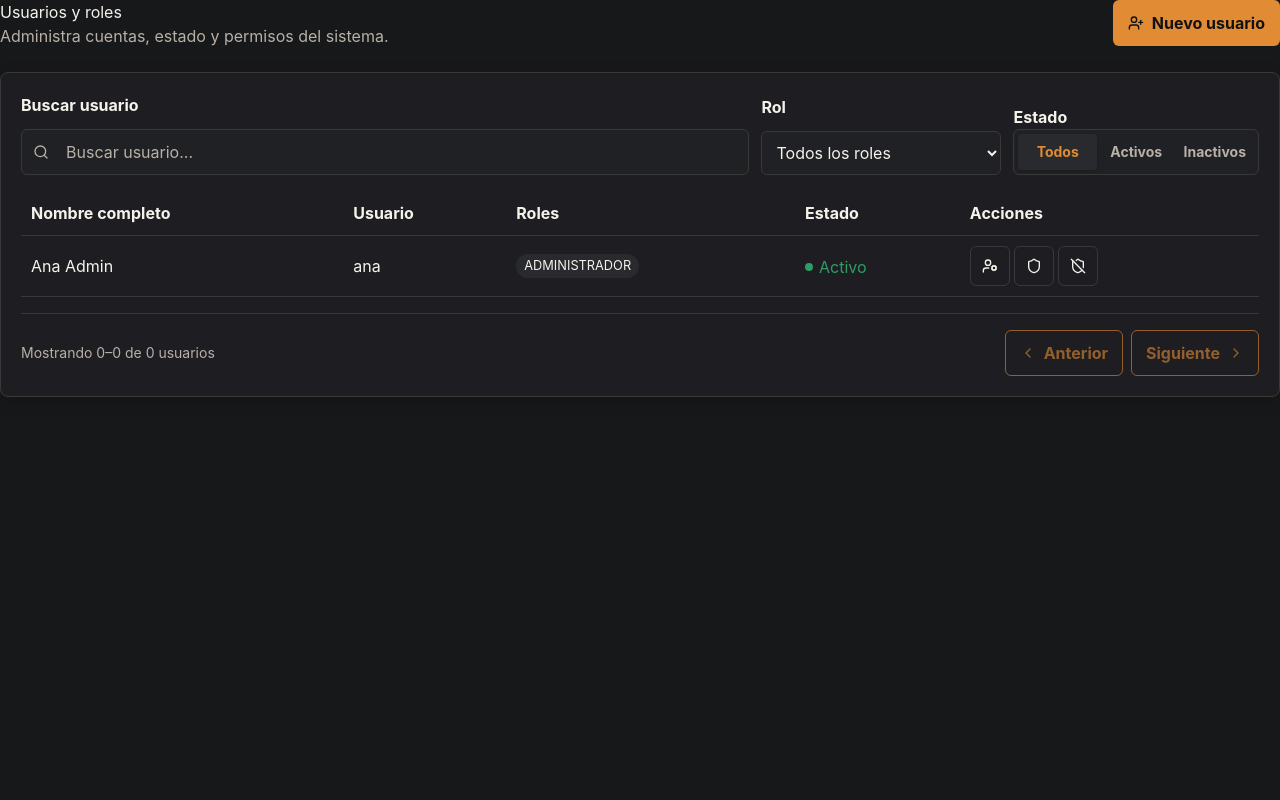
Test case: UsersPage › requires at least one role before creating a user
Click the button "Nuevo usuario" at (1196, 23), box x1=1113 y1=0 x2=1279 y2=46
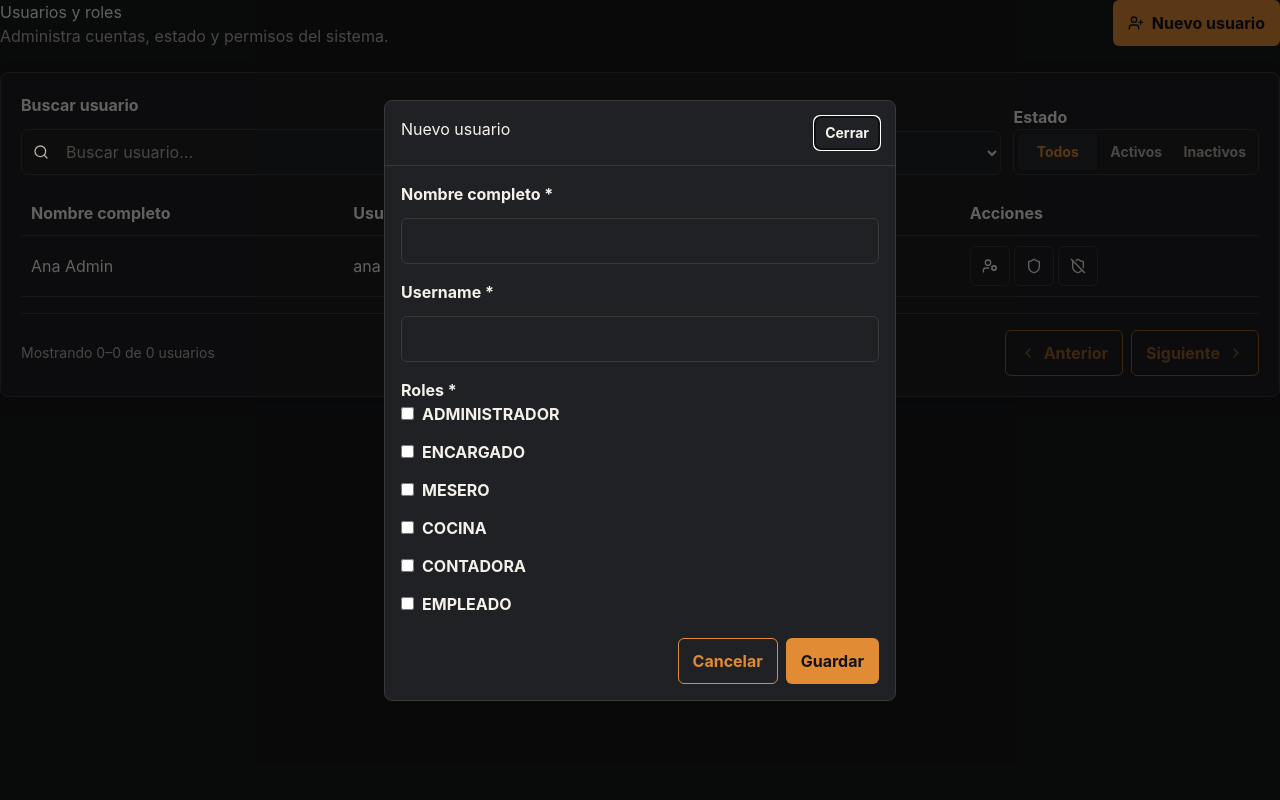
Click the button "Guardar" at (832, 660), box x1=786 y1=638 x2=879 y2=684
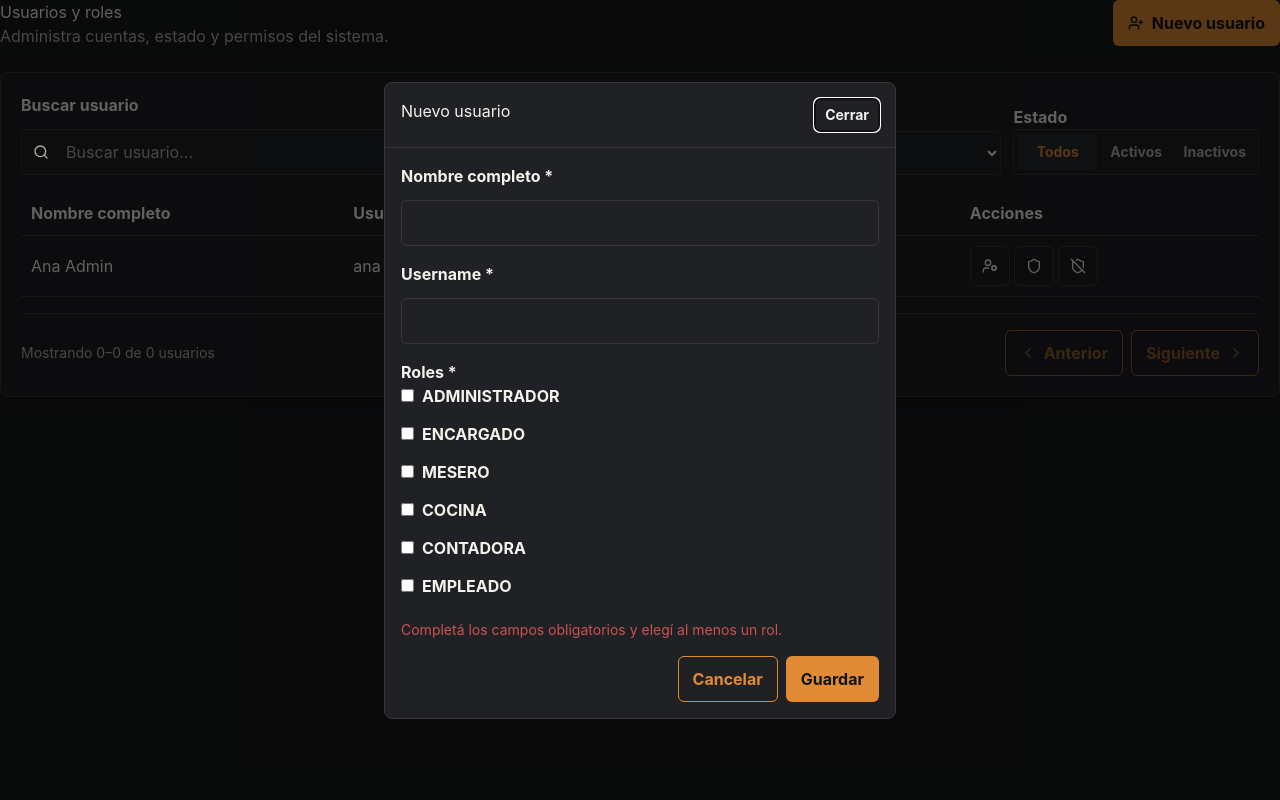
Expected: the text "Completá los campos obligatorios y elegí al menos un rol." is shown, x1=401 y1=620 x2=782 y2=638
